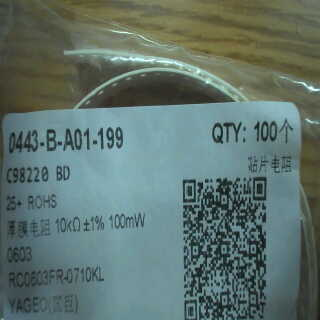10kR: (55, 214, 83, 235)
